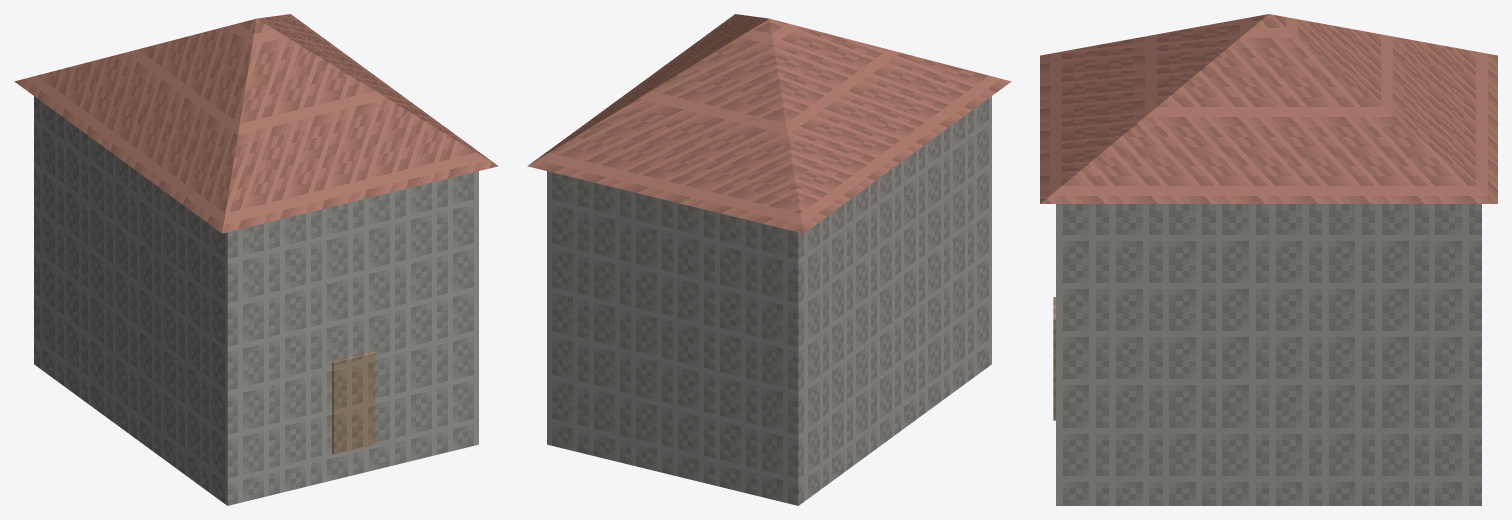
File: row_end.glb
3 renders of one model, left to right at view 1: azimuth 30°, elevation 25°; view 2: azimuth 150°, elevation 25°; view 3: azimuth 270°, elevation 25°, orthographic. The views are drawn at different scales.
Size of the model in its own units: 6.6 by 8.8 by 8.6.
Materials: 3 (3 with a texture image).
